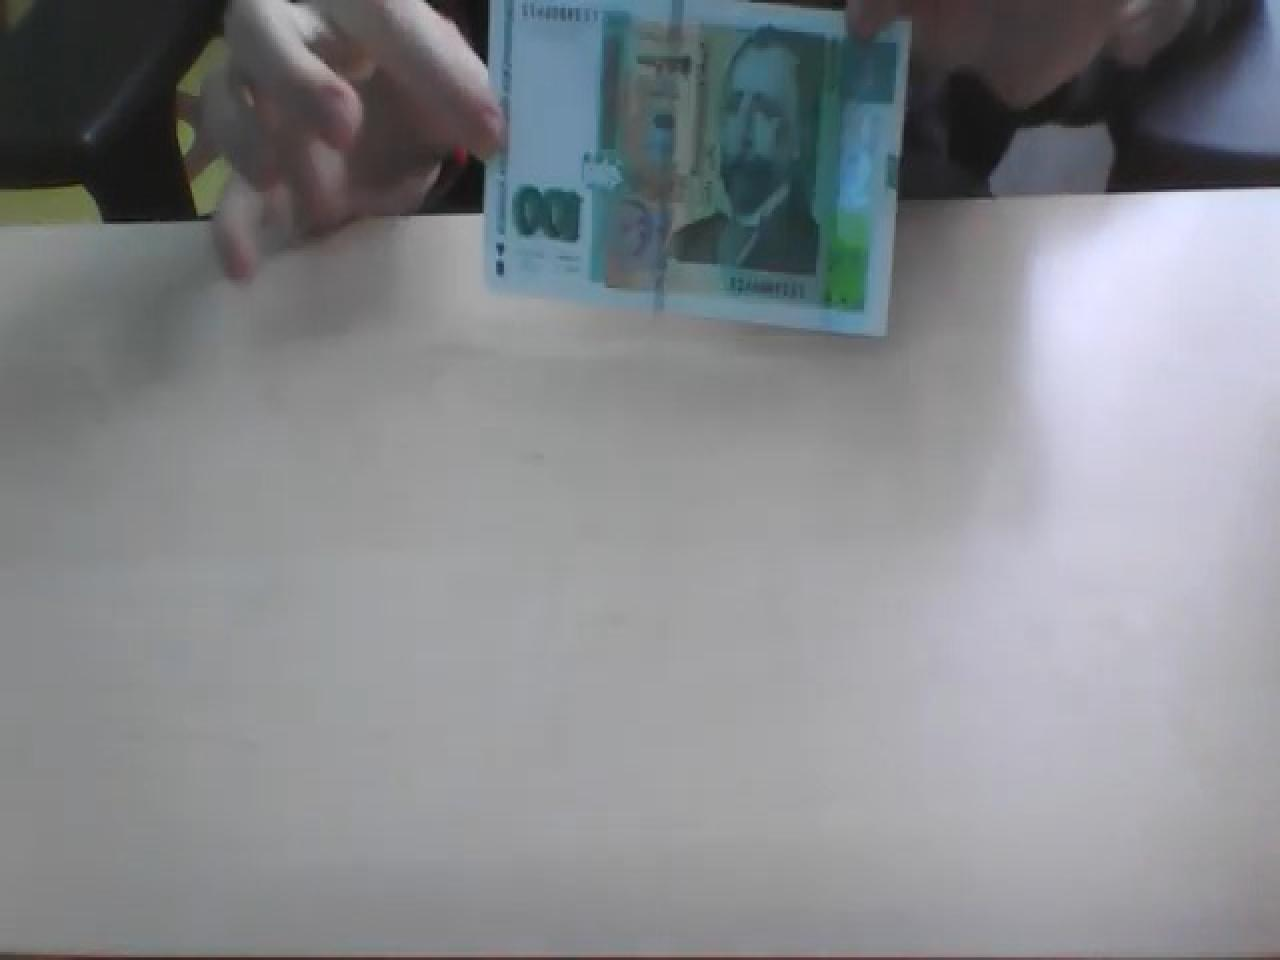100leva: (482, 0, 912, 336)
